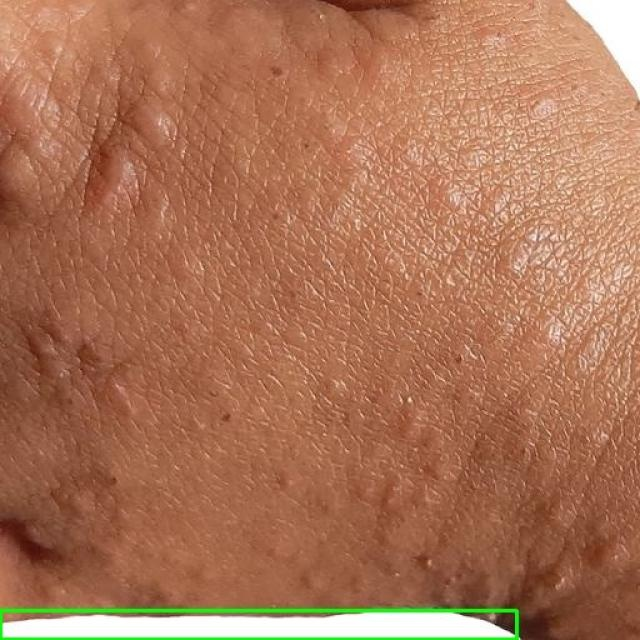Contact Dermatitis: (0, 610, 516, 639)
